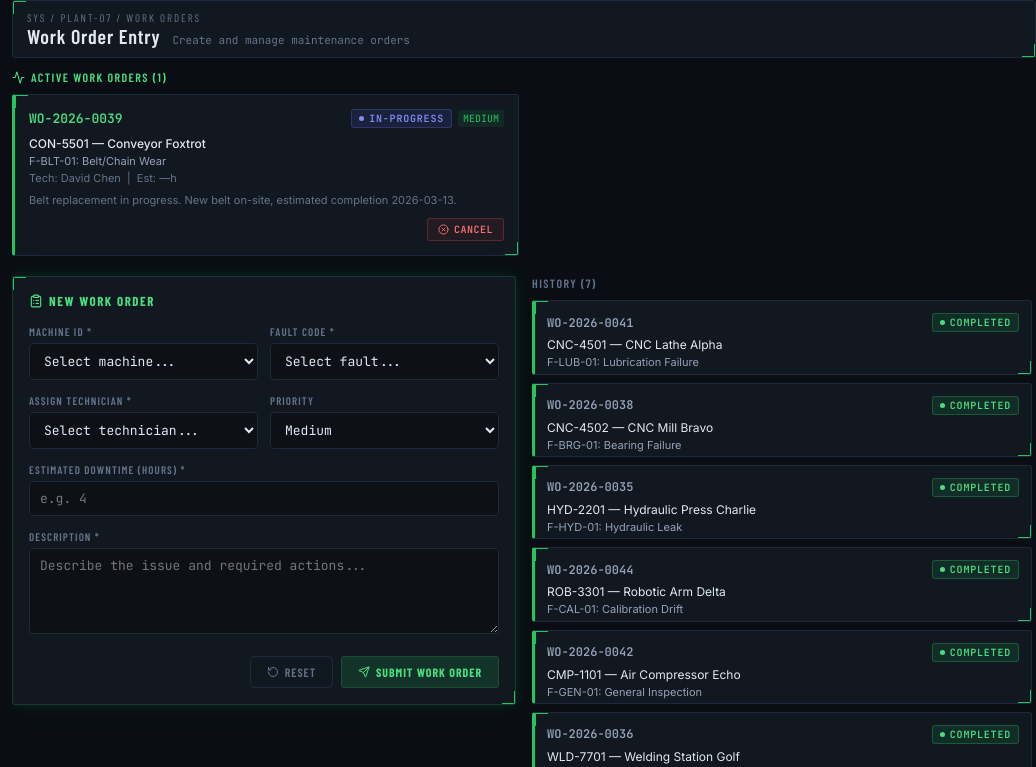
Test: WorkOrders › resets form when Reset is clicked
The image size is (1036, 767).
Type "10" into the number field with placeholder "e.g. 4" at (264, 499), box [29, 481, 499, 516]
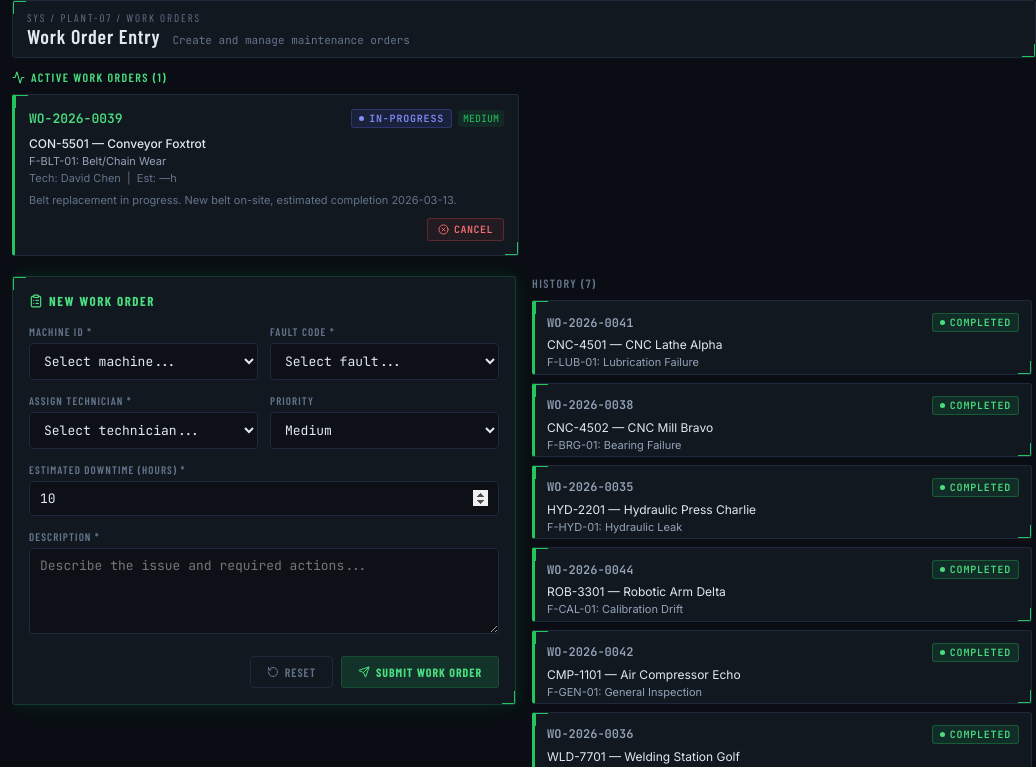
Click the button "Reset" at (291, 672), box [250, 656, 333, 688]
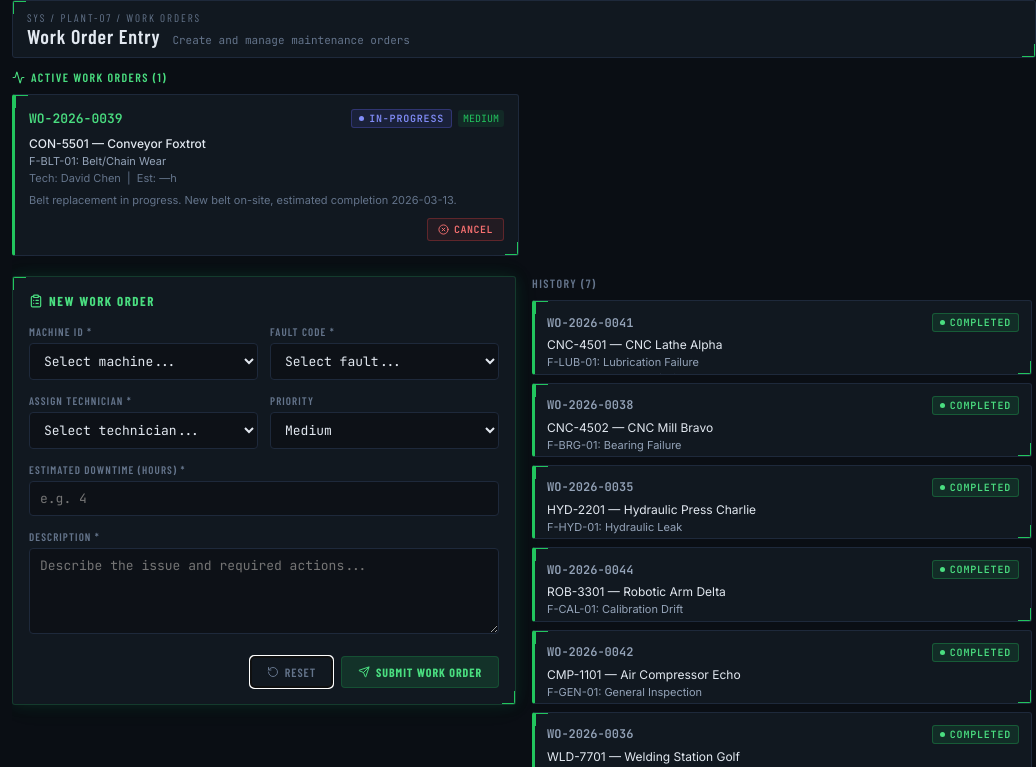
Now the number field with placeholder "e.g. 4" is not empty, box [29, 481, 499, 516]
